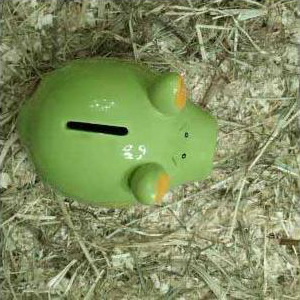piggy: (18, 57, 217, 210)
